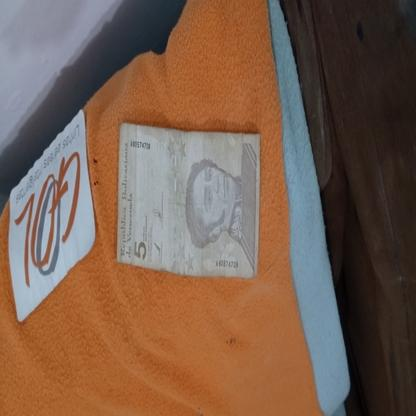five-front-vef: (116, 121, 260, 279)
